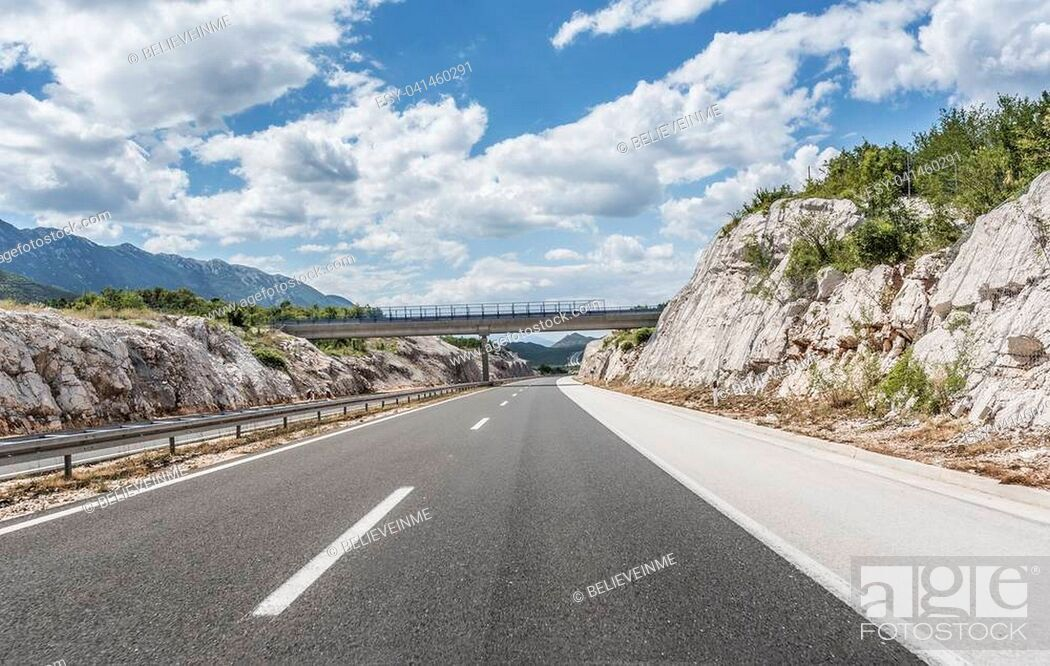bridge: (264, 294, 667, 337)
